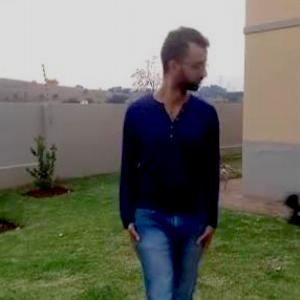follow: (120, 17, 226, 299)
